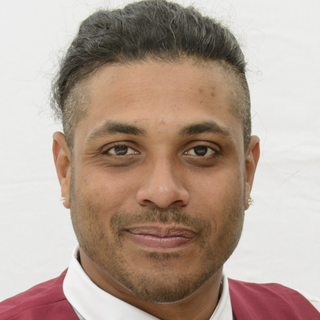eye: (174, 138, 226, 169), (93, 138, 145, 166)
